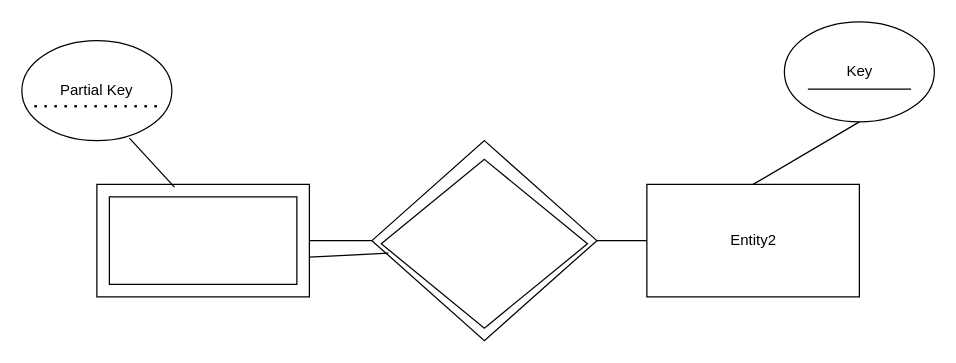
Some shapes in this 956 by 363 pixel diagram are drawn without their labels. Here are the shapes that lost their labels. From the top down, the centre of each, then its label:
point 202,240: Entity1
point 484,243: Relationship
